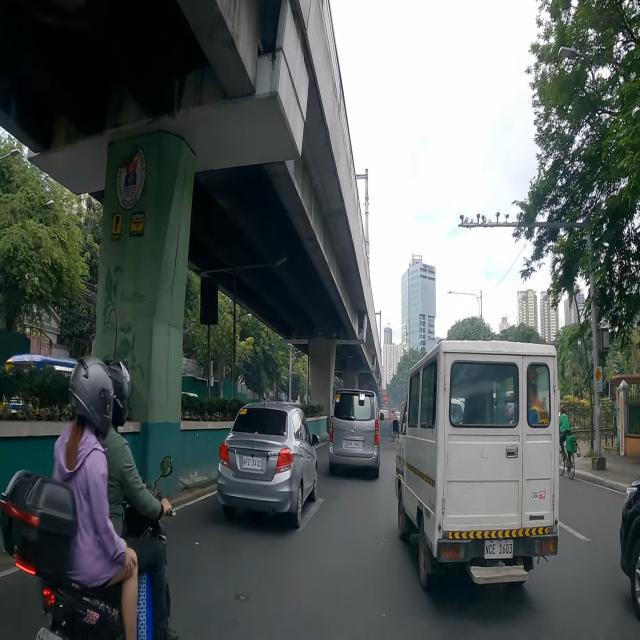bike: (559, 404, 581, 480)
car: (217, 398, 320, 530), (330, 388, 384, 480)
motorcycle: (0, 358, 177, 640)
truck: (392, 341, 560, 593)
